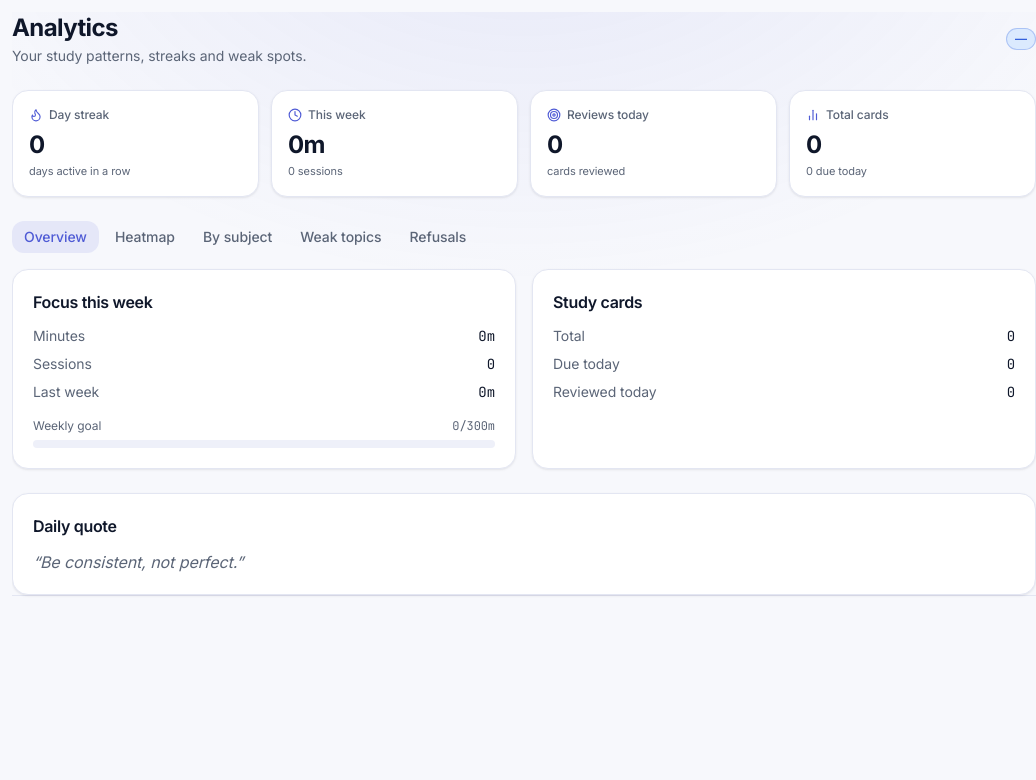
Test: the Refusals tab › shows each space's refused answers with its rate
Click the tab "Refusals".
click(438, 236)  # box [398, 220, 478, 252]
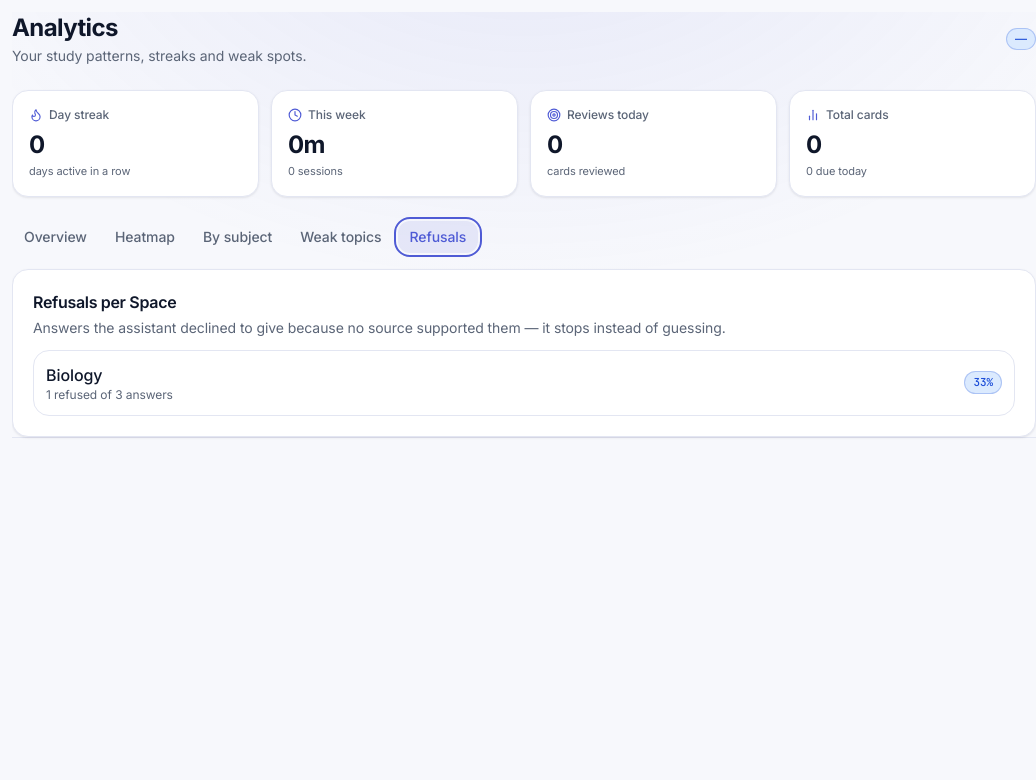
Expected: the text "Biology" is shown, [46, 364, 102, 384]
Expected: the text "1 refused of 3 answers" is shown, [46, 386, 173, 402]
Expected: the text "33%" is shown, [964, 371, 1002, 394]
